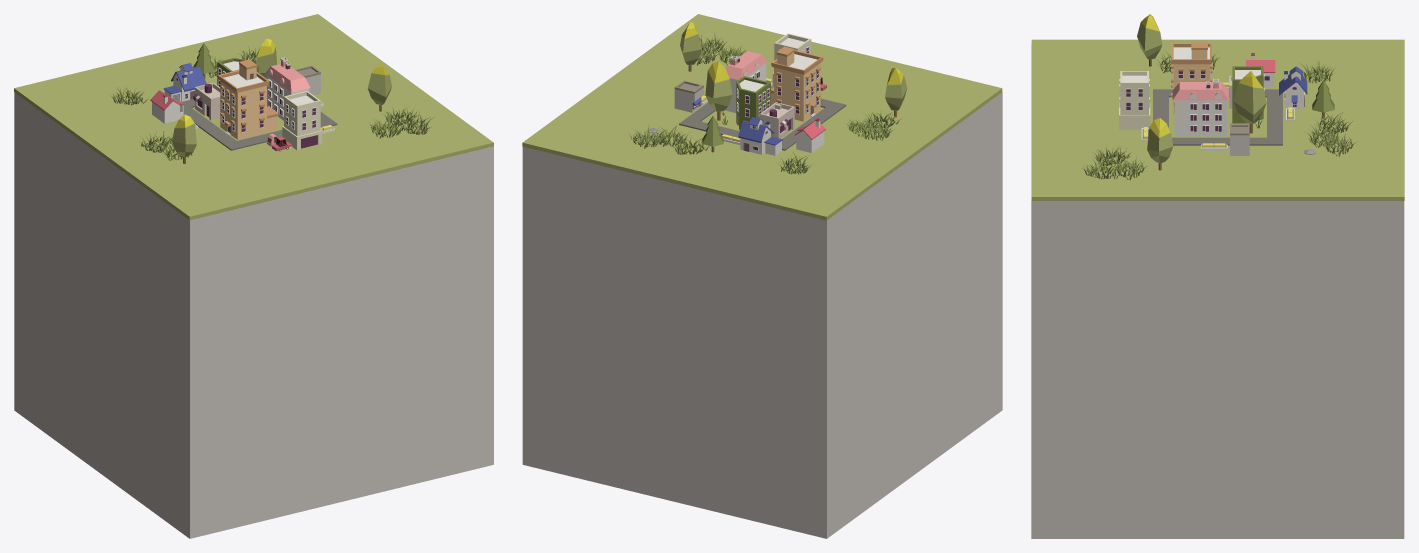
Rendered from Town3.fbx.
The picture shows the model from 3 angles, left to right: view 1: azimuth 30°, elevation 25°; view 2: azimuth 150°, elevation 25°; view 3: azimuth 270°, elevation 25°; orthographic projection. The views are drawn at different scales.
Visible parts, largest first — view 1: town_3; view 2: town_3; view 3: town_3.
Boxes of the visible parts, left/top/right/bottom form: town_3: left=14, top=14, right=493, bottom=538; town_3: left=522, top=14, right=1002, bottom=538; town_3: left=1031, top=14, right=1404, bottom=538.
Bounding box in the file's own units: 12 × 14.47 × 12.02.
